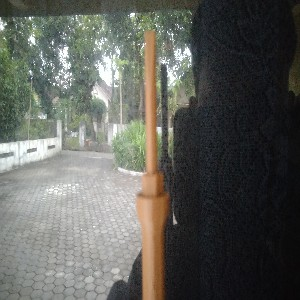obeng: (134, 29, 171, 300)
